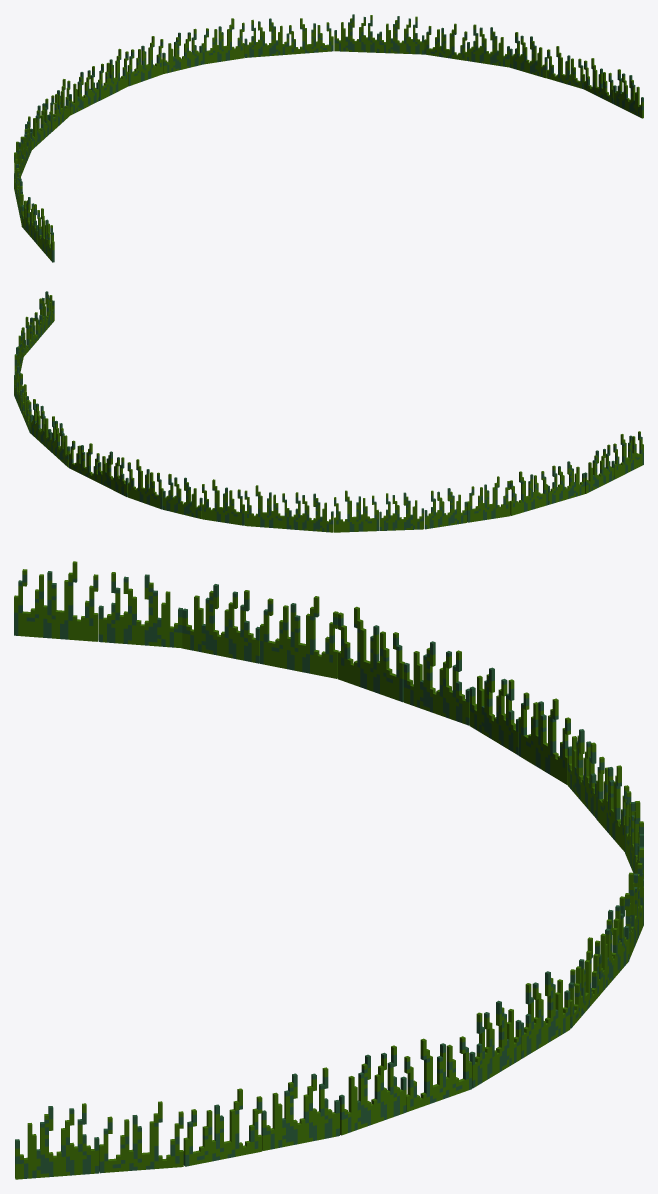
The model's file is Grass_Layer3.fbx.
The picture shows the model from 3 angles, top to bottom: view 1: azimuth 30°, elevation 25°; view 2: azimuth 150°, elevation 25°; view 3: azimuth 270°, elevation 25°; orthographic projection. The views are drawn at different scales.
Parts seen in each view (by area): view 1: Grass4, Grass33, Grass10, Grass23, Grass5, Grass18, Grass2, Grass34, Grass11, Grass32, Grass42, Grass12 (+7 smaller); view 2: Grass31, Grass11, Grass5, Grass19, Grass13, Grass30, Grass22, Grass36, Grass2, Grass4, Grass37, Grass41 (+7 smaller); view 3: Grass41, Grass36, Grass40, Grass42, Grass34, Grass37, Grass31, Grass33, Grass30, Grass35, Grass38, Grass19 (+10 smaller).
Boxes of the visible parts, x1,y1,x2,y2 form: Grass4: (201,18,244,64); Grass33: (467,24,509,67); Grass10: (244,18,289,57); Grass23: (379,16,424,54); Grass5: (127,36,163,86); Grass18: (334,14,379,52); Grass2: (162,28,202,73); Grass34: (509,32,547,78); Grass11: (98,48,128,100); Grass32: (424,23,467,60); Grass42: (613,69,643,118); Grass12: (289,18,333,54); Grass31: (467,476,510,522); Grass11: (244,485,289,529); Grass5: (202,479,244,525); Grass19: (334,490,378,532); Grass13: (289,492,333,532); Grass30: (424,488,467,529); Grass22: (379,492,423,530); Grass36: (510,471,547,515); Grass2: (162,473,202,518); Grass4: (127,459,163,509); Grass37: (548,461,584,504); Grass41: (613,431,643,479); Grass41: (14,561,98,641); Grass36: (260,596,338,678); Grass40: (98,572,182,648); Grass42: (15,1103,99,1179); Grass34: (261,1067,339,1150); Grass37: (182,584,259,663); Grass31: (337,606,405,702); Grass33: (339,1045,406,1135); Grass30: (403,641,469,725); Grass35: (183,1088,262,1166); Grass38: (99,1101,183,1173); Grass19: (518,692,570,784).
Size of the model in its own units: 19.17 by 1.26 by 9.35.
